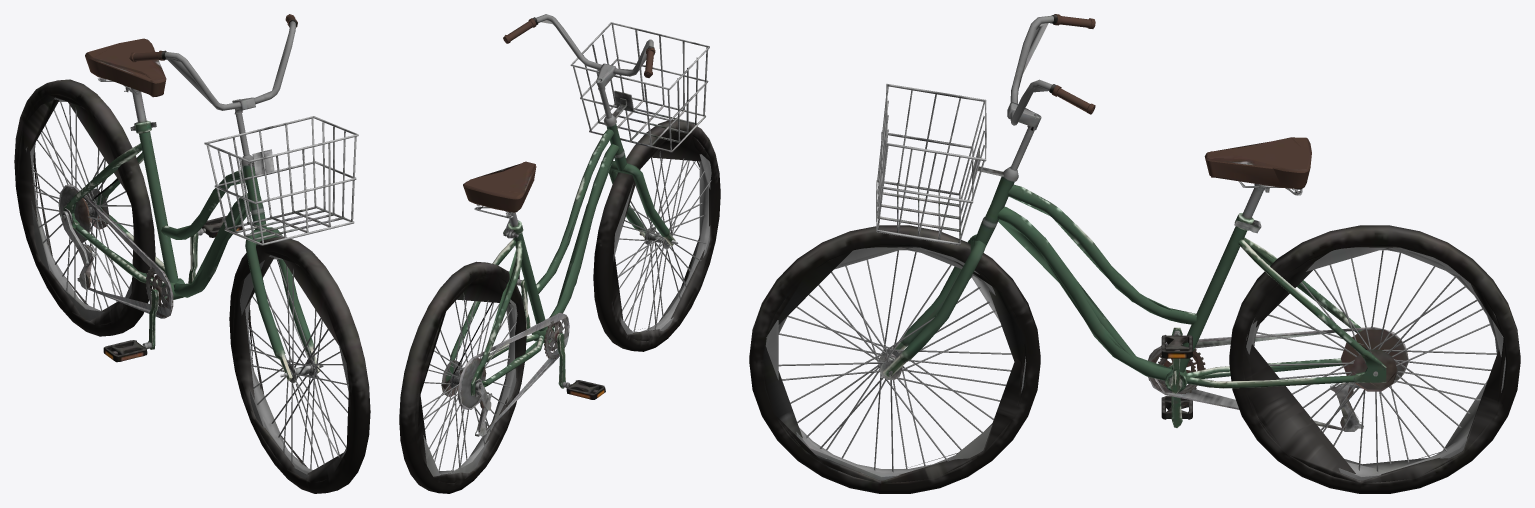
File: bicycle.glb
3 renders of one model, left to right at view 1: azimuth 30°, elevation 25°; view 2: azimuth 150°, elevation 25°; view 3: azimuth 270°, elevation 25°, orthographic. The views are drawn at different scales.
Visible parts, largest first — view 1: kit0, kit1, far; view 2: kit0, kit1, far; view 3: kit0, kit1, far.
Part boxes in pixels (x1,y1,x2,y2): kit0: (14, 14, 370, 493); kit1: (19, 20, 356, 483); far: (23, 31, 343, 481); kit0: (399, 14, 720, 493); kit1: (416, 19, 717, 483); far: (419, 45, 712, 476); kit0: (749, 14, 1520, 493); kit1: (762, 23, 1505, 483); far: (767, 23, 1503, 480).
Bounding box in the file's own units: 0.4857 × 1.11 × 1.75.
1 material, 1 textured.
